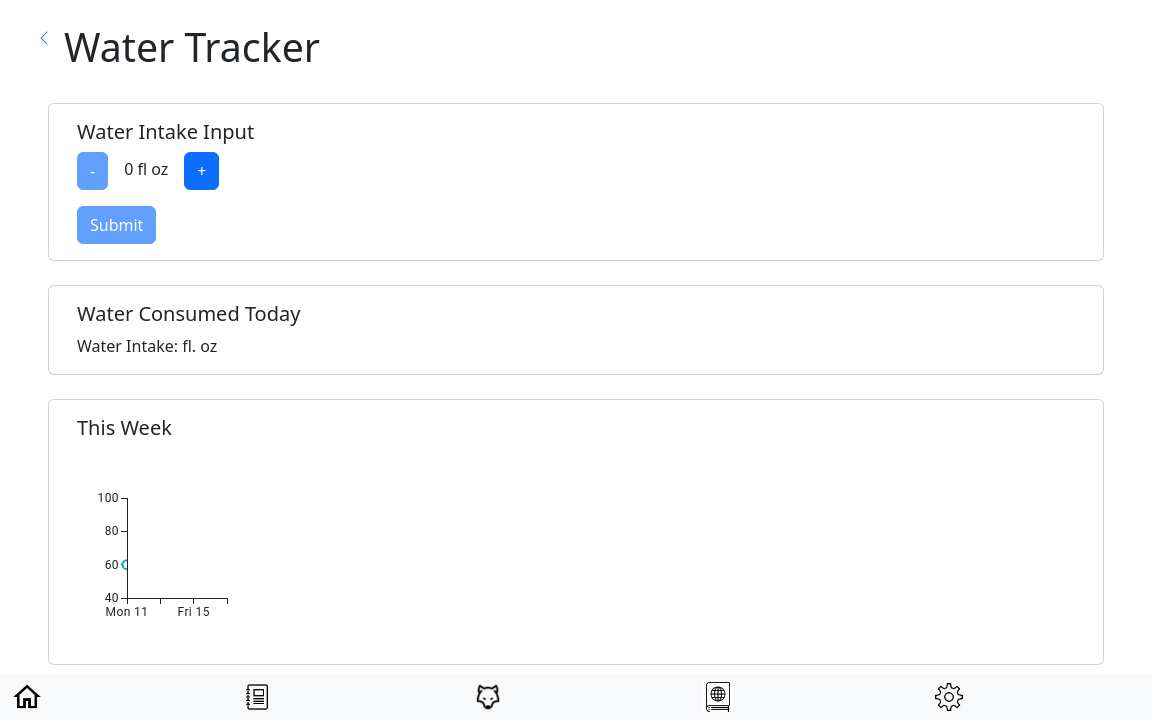
Unit: Water Page › add 8 fl oz of water
The width and height of the screenshot is (1152, 720).
Expected: the heading "Water Tracker" is shown, 64,24 -> 320,71
Expected: the text with test id "waterCounter" reads "0 fl oz", 124,150 -> 168,180
# click the add button, add 8 fl oz
Click the button with test id "addition-button" at coordinates (202, 171), box 184,152 -> 220,190
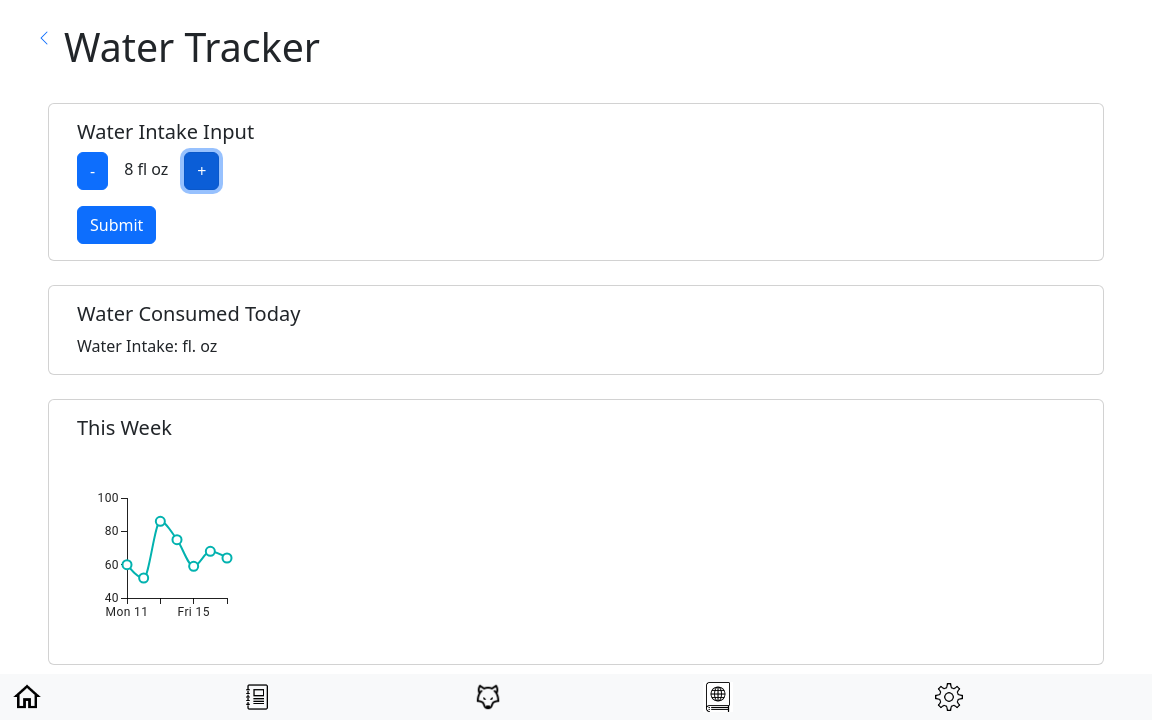
Expected: the text with test id "waterCounter" reads "8 fl oz", 124,150 -> 168,180
